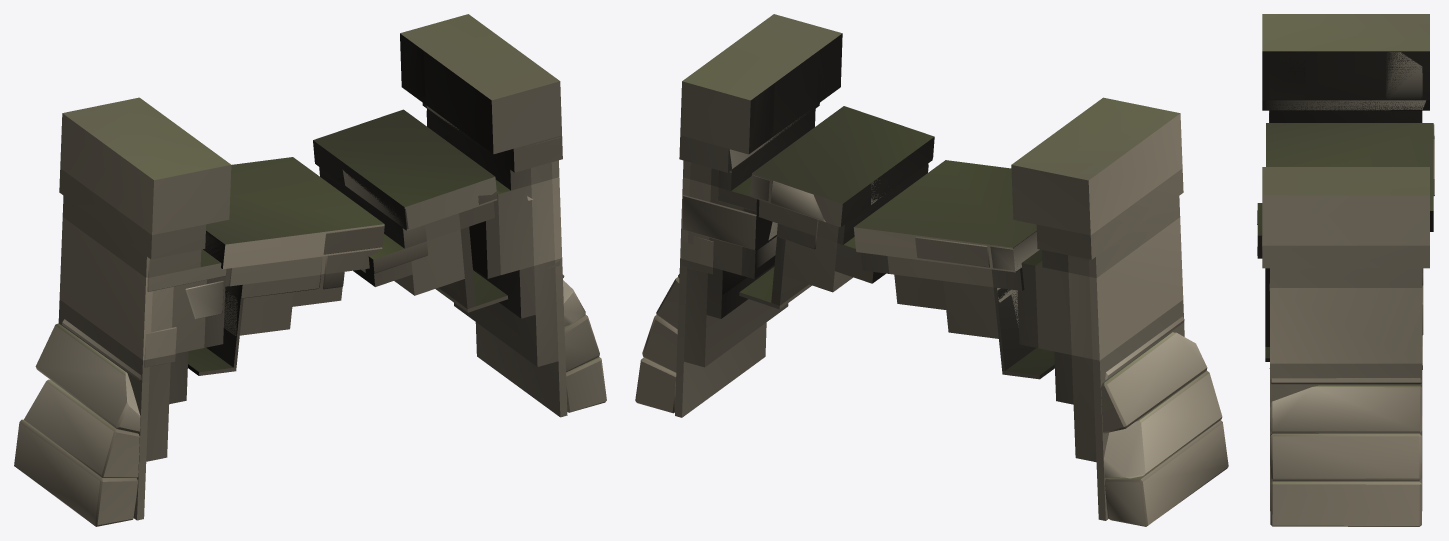
The model's file is aqueduct_arch_cracked.glb.
The picture shows the model from 3 angles, left to right: view 1: azimuth 30°, elevation 25°; view 2: azimuth 150°, elevation 25°; view 3: azimuth 270°, elevation 25°; orthographic projection. The views are drawn at different scales.
Visible parts, largest first — view 1: aqueduct_arch_cracked_far, aqueduct_arch_cracked; view 2: aqueduct_arch_cracked_far, aqueduct_arch_cracked; view 3: aqueduct_arch_cracked_far, aqueduct_arch_cracked.
Boxes of the visible parts, x1,y1,x2,y2 form: aqueduct_arch_cracked_far: (58,14,567,520); aqueduct_arch_cracked: (14,41,606,526); aqueduct_arch_cracked_far: (675,14,1184,520); aqueduct_arch_cracked: (635,37,1228,526); aqueduct_arch_cracked_far: (1257,14,1433,510); aqueduct_arch_cracked: (1257,51,1434,526).
Bounding box in the file's own units: 17.73 × 11.25 × 5.82.
